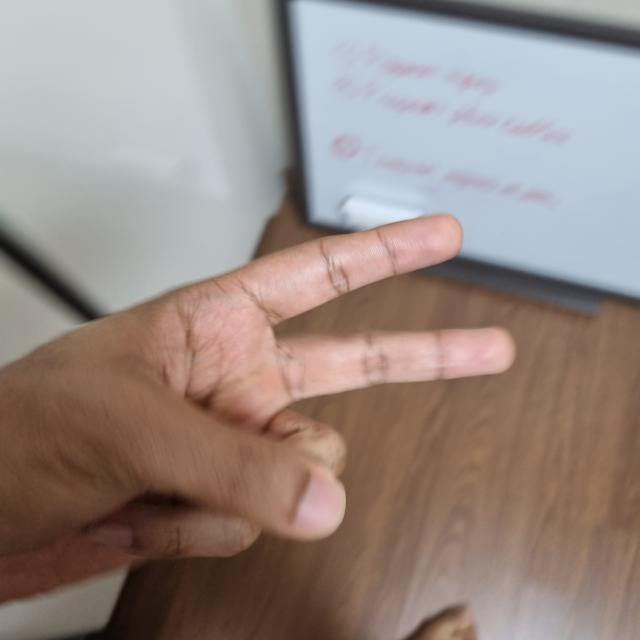Scissors: (0, 213, 515, 597)
